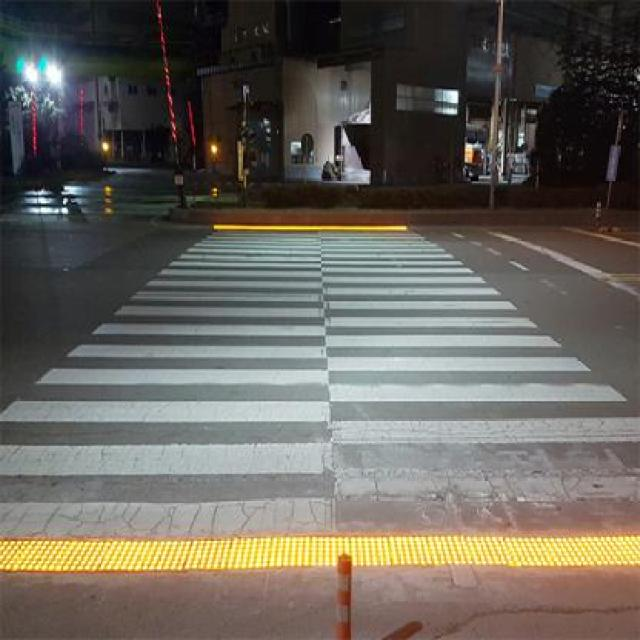intact_crosswalk: (0, 229, 640, 539)
